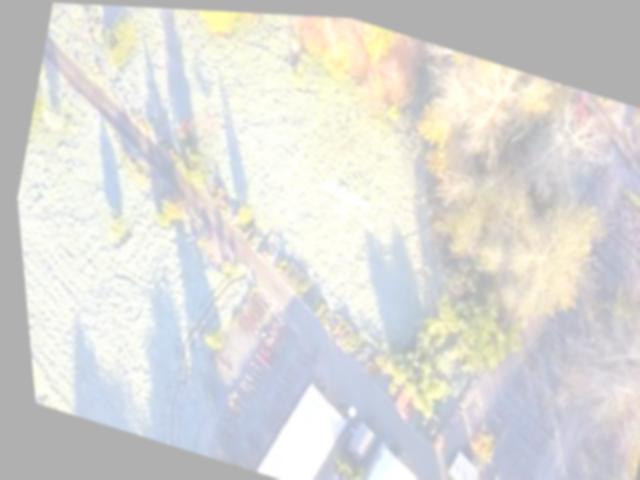uav: (303, 162, 382, 233)
